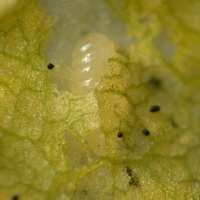insect: (47, 63, 53, 68)
